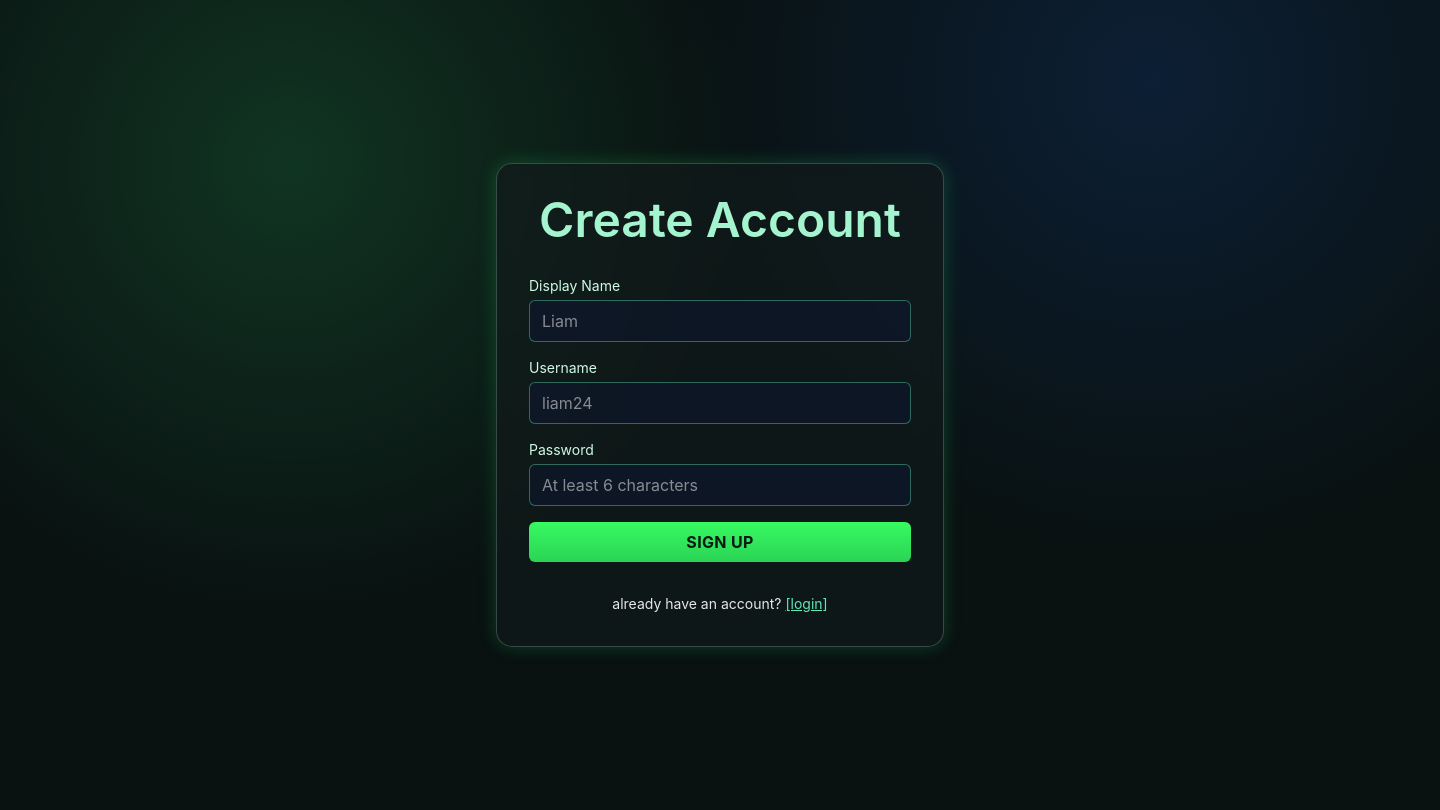
Test: SignupPage - Preservation Properties › should display "Username already taken" error for duplicate username
Note: Fill in signup data
In the field labelled "Display Name": (720,321) [529,300,911,342], type "John Doe"
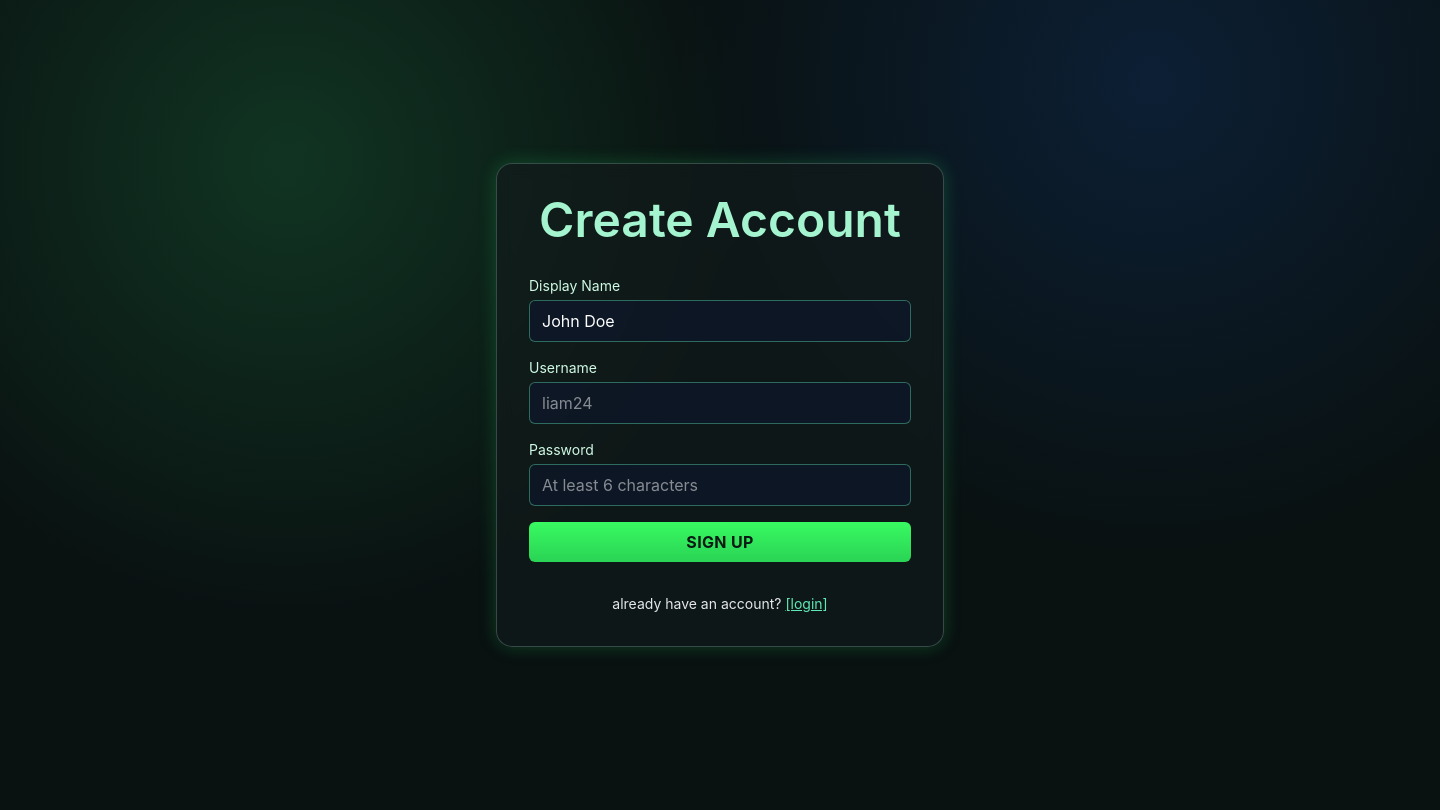
In the field labelled "Username": (720,403) [529,382,911,424], type "existinguser"
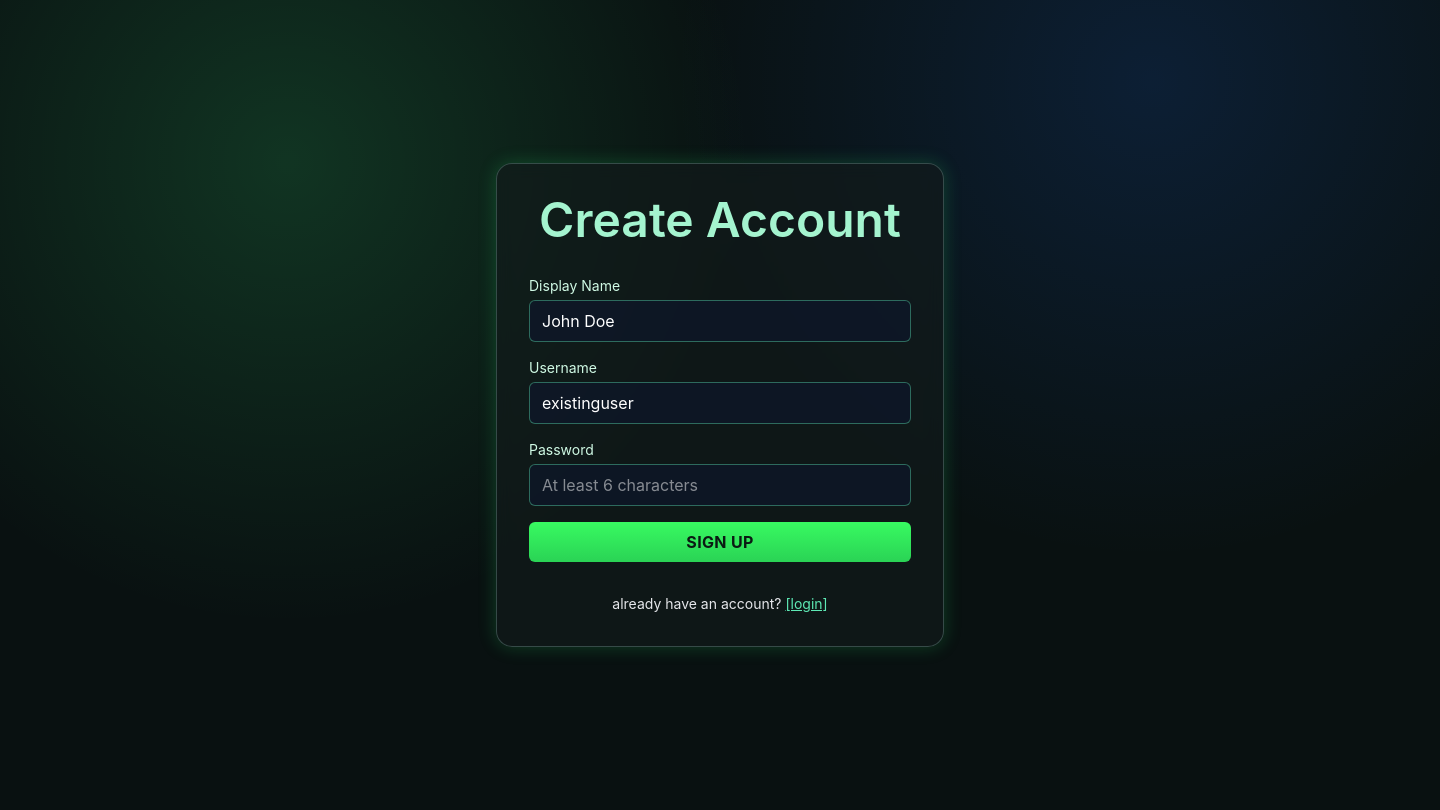
In the password field labelled "Password": (720,485) [529,464,911,506], type "password123"
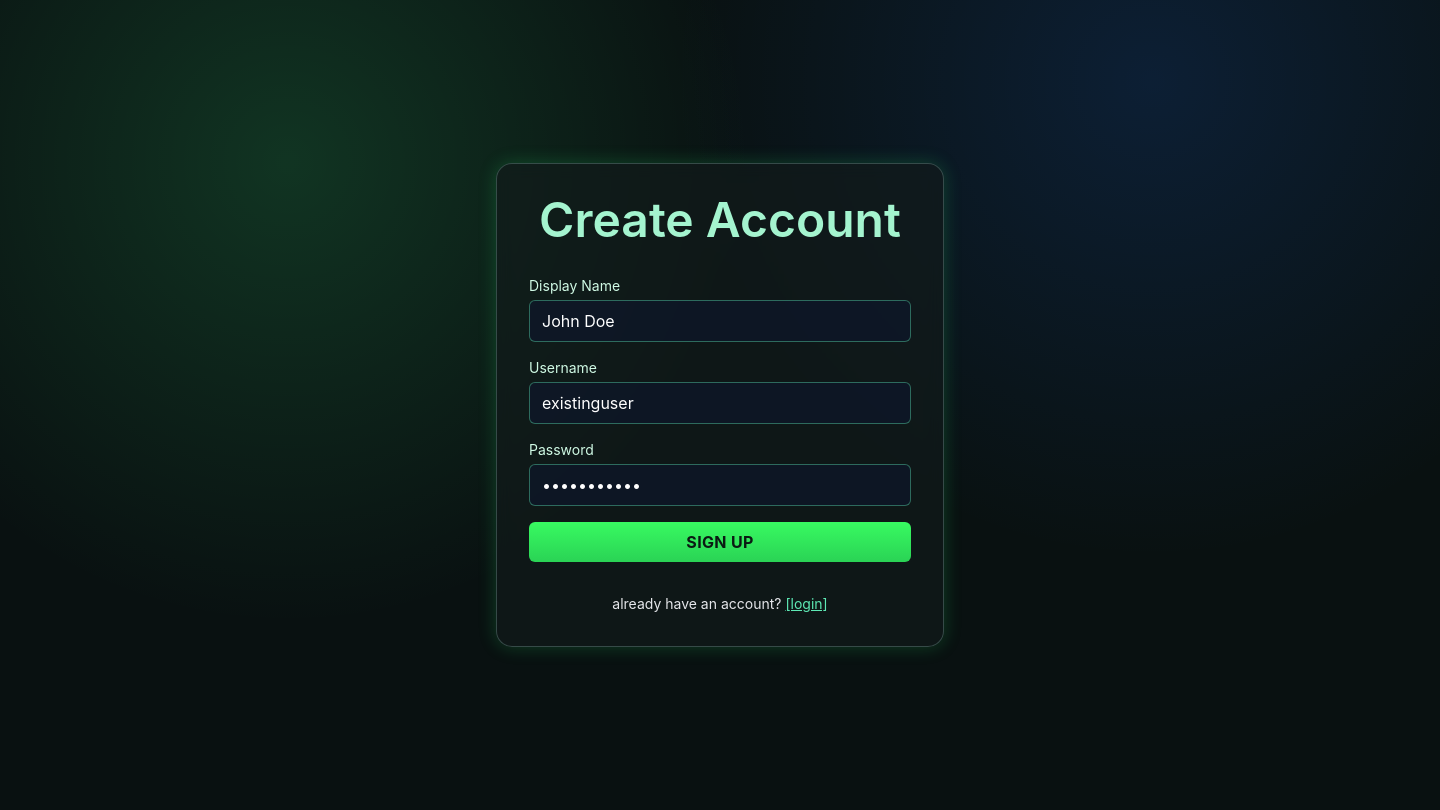
Note: Submit the form
Click the button "SIGN UP": (720,542) [529,522,911,562]
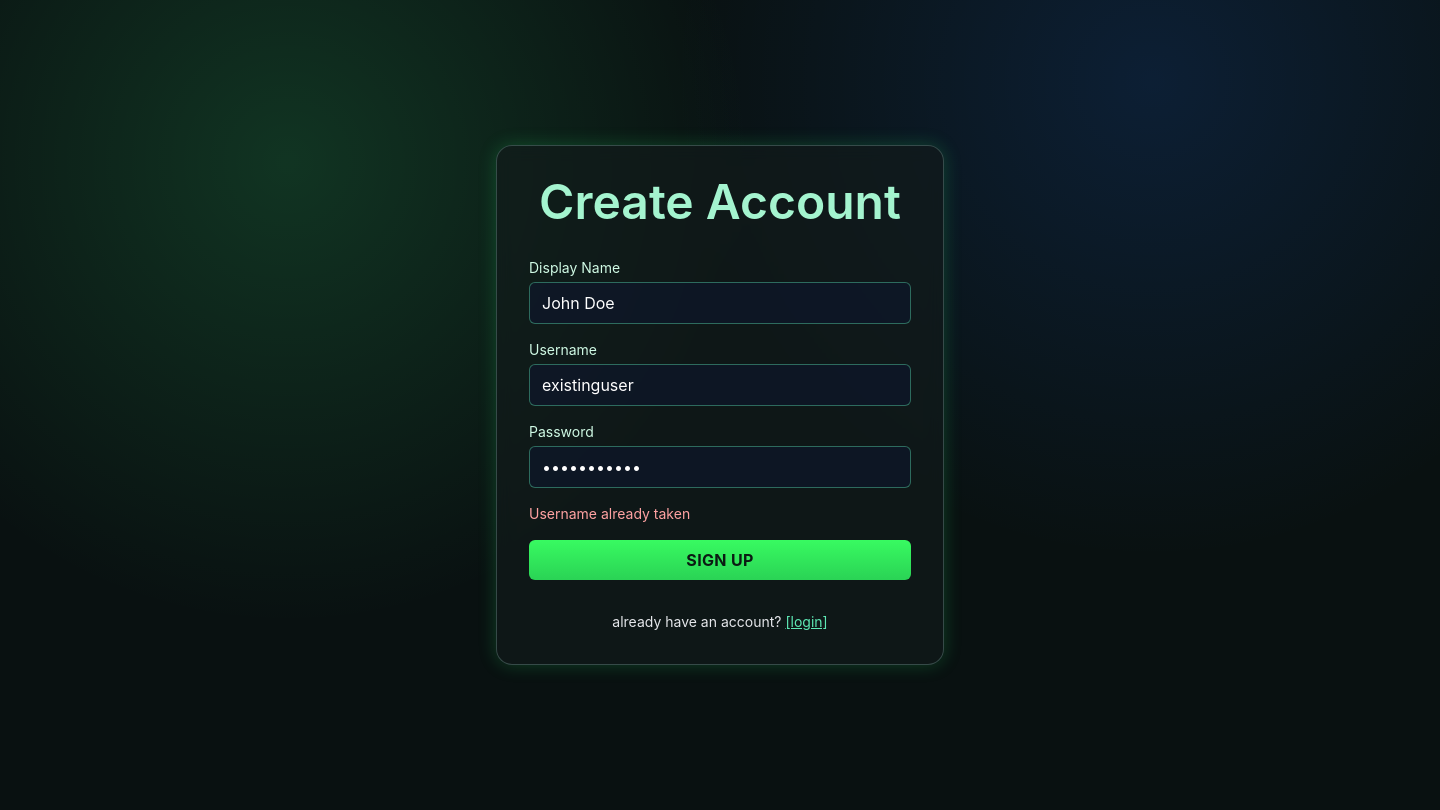
Expected: the text "Username already taken" is shown, [529,505,690,522]
